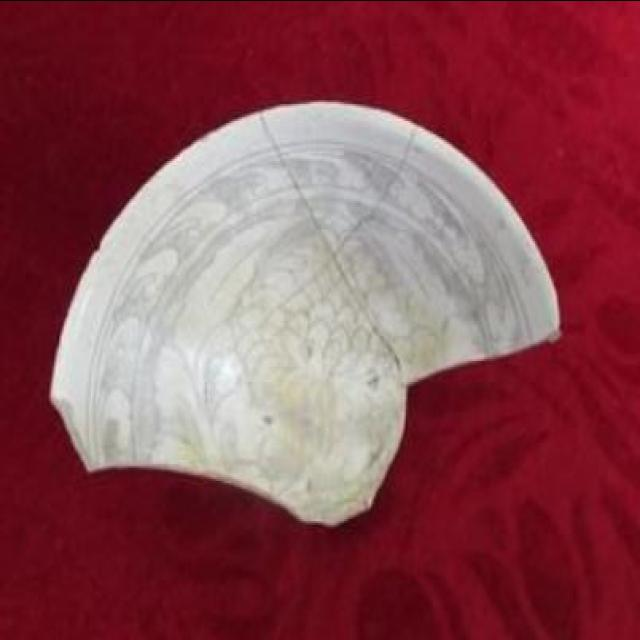-Other waste - ceramic-: (49, 96, 562, 514)
